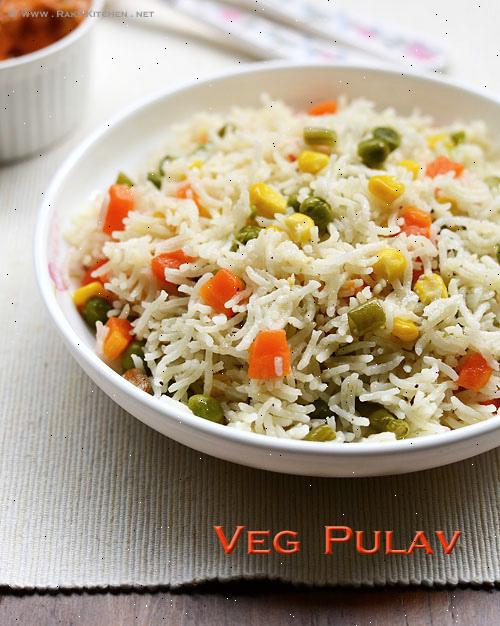veg-pulao: (94, 99, 500, 415)
